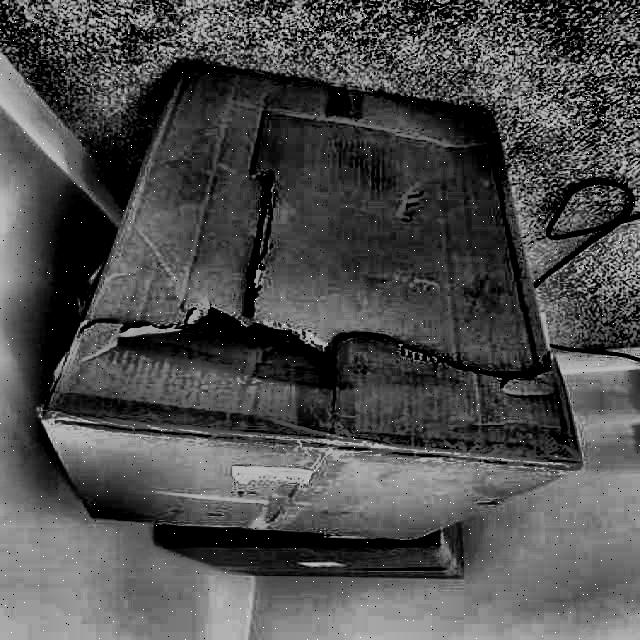box: (29, 51, 594, 548)
hole: (125, 298, 391, 386)
